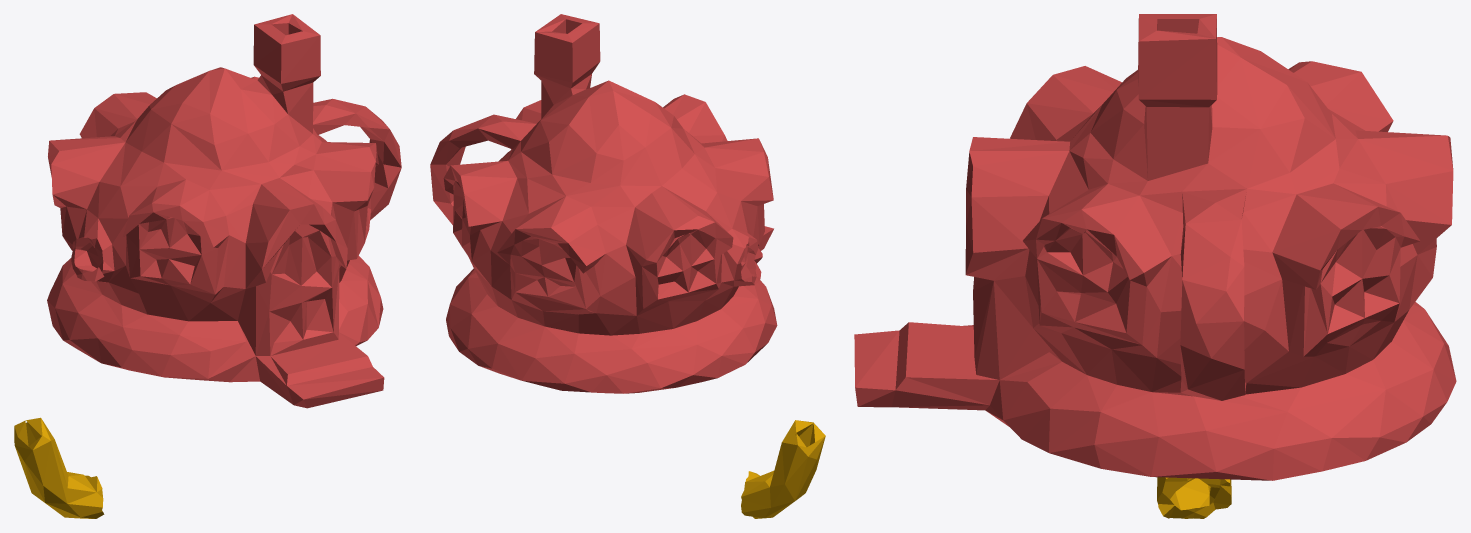
The model's file is fractured_5_2pcs_transformed.glb.
3 views of the same model, side by side, from view 1: azimuth 30°, elevation 25°; view 2: azimuth 150°, elevation 25°; view 3: azimuth 270°, elevation 25° (orthographic). The views are drawn at different scales.
Visible parts, largest first — view 1: piece_1.obj, piece_0.obj; view 2: piece_1.obj, piece_0.obj; view 3: piece_1.obj, piece_0.obj.
Boxes of the visible parts, bbox=[...] form: piece_1.obj: bbox=[47, 14, 401, 408]; piece_0.obj: bbox=[14, 417, 104, 518]; piece_1.obj: bbox=[430, 14, 777, 393]; piece_0.obj: bbox=[741, 420, 825, 518]; piece_1.obj: bbox=[854, 14, 1456, 480]; piece_0.obj: bbox=[1157, 477, 1231, 518].
Size of the model in its own units: 1 by 1.12 by 0.9673.
